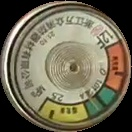green: (85, 87, 119, 117)
needle: (80, 83, 101, 113)
red: (104, 41, 127, 92)
yellow: (39, 98, 89, 123)
